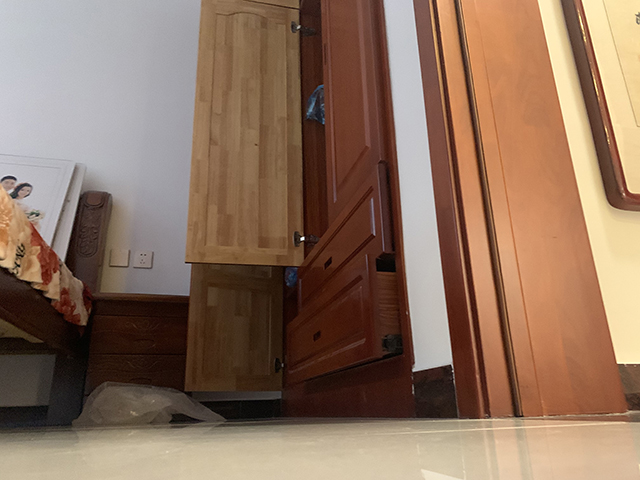bed: (1, 184, 114, 428)
cabinet: (182, 1, 415, 418), (88, 287, 195, 424)
